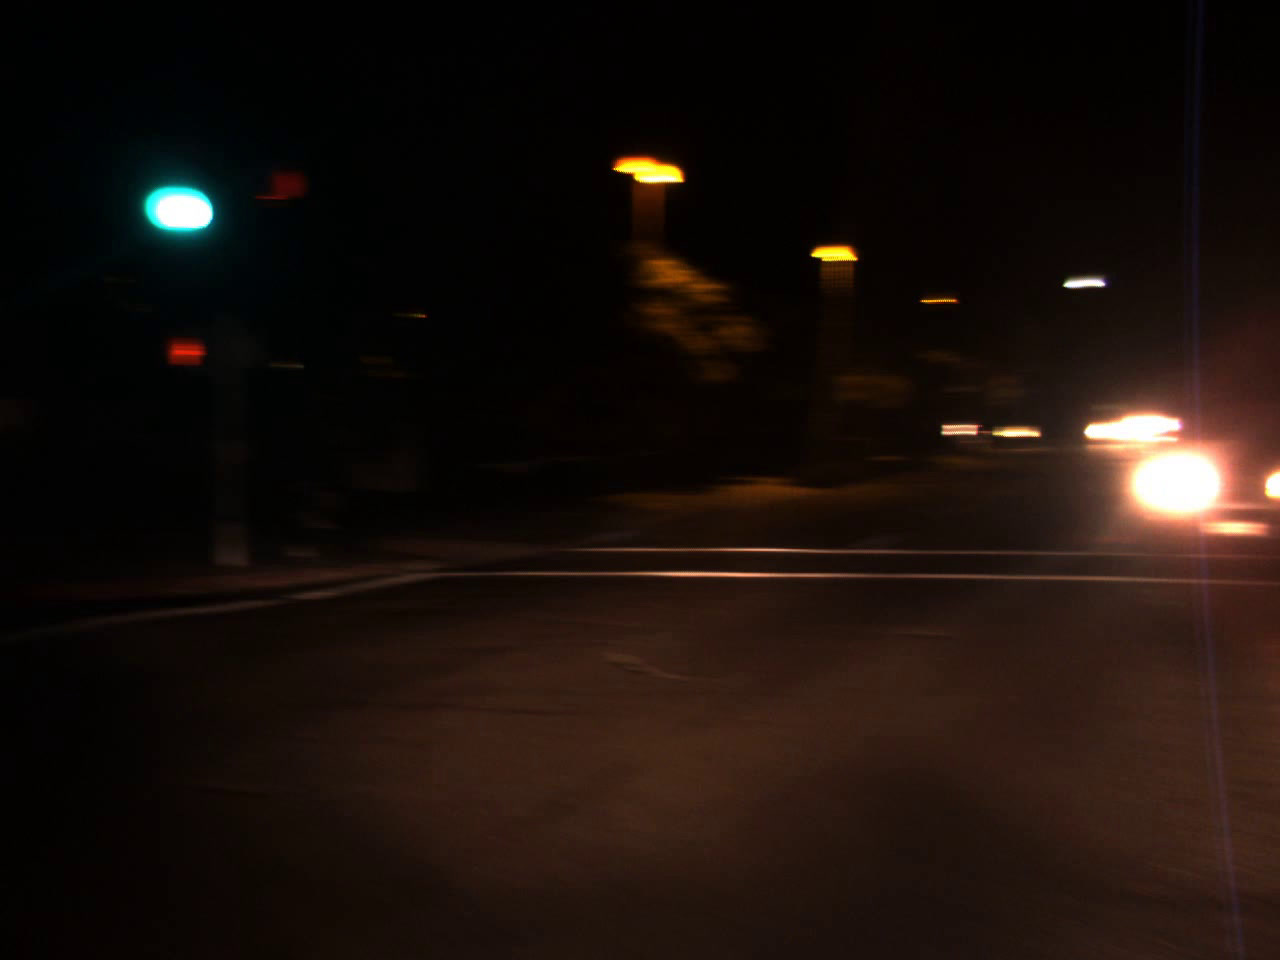go: (129, 132, 229, 252)
